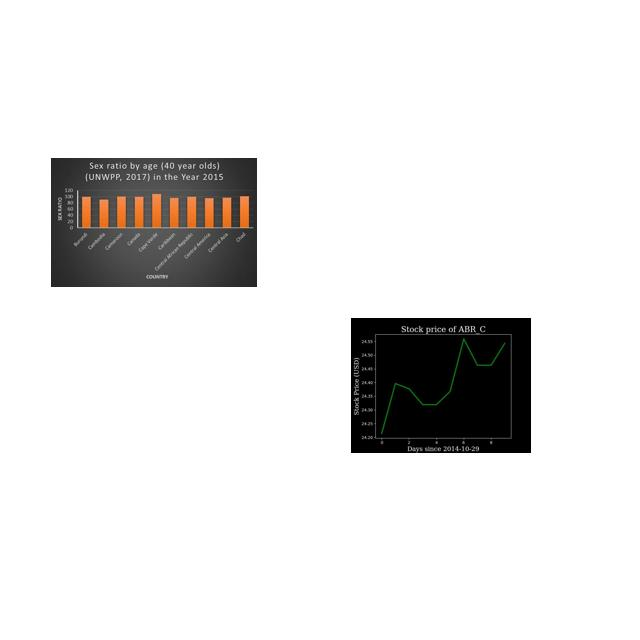Graph: (51, 158, 257, 287), (351, 318, 531, 453)
